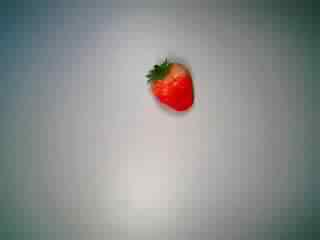strawberry: (137, 53, 203, 115)
